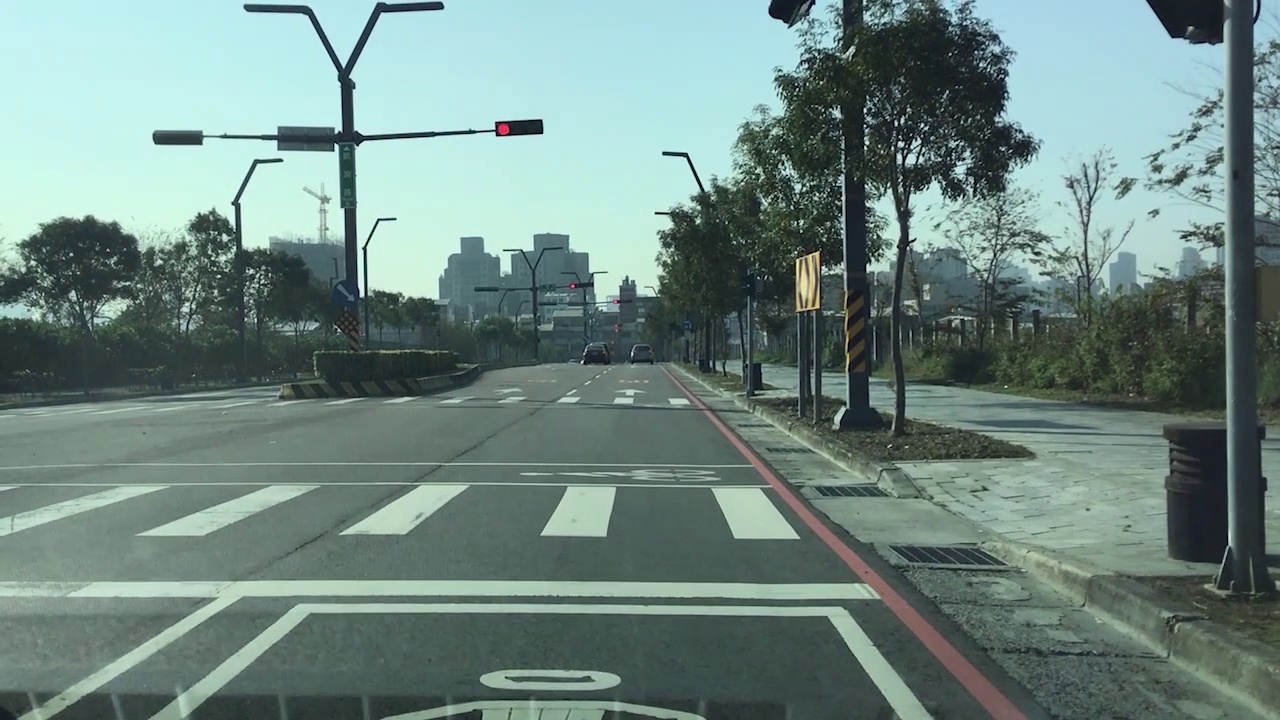Pedestrian_Crossing: (13, 592, 846, 720), (17, 478, 790, 541), (17, 388, 710, 413)
